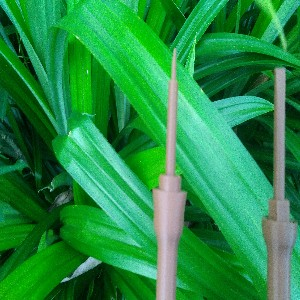obeng: (261, 66, 297, 300)
solder: (151, 47, 189, 300)
